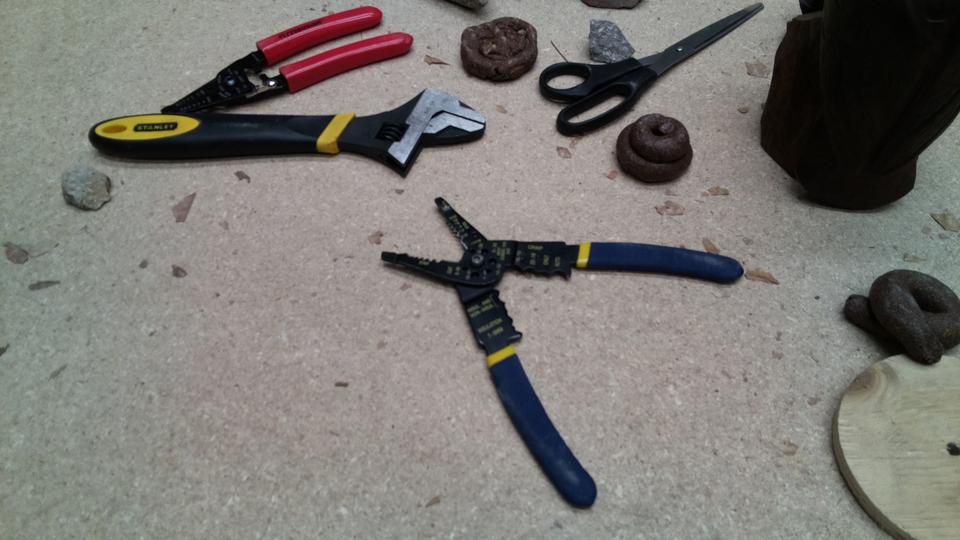poop: (841, 265, 960, 370), (610, 111, 696, 190), (458, 14, 543, 89)
